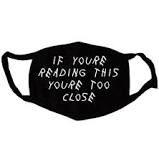cloth_mask: (1, 41, 159, 120)
